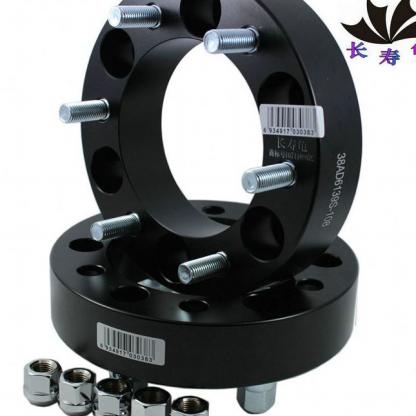FOD: (75, 0, 365, 302)
